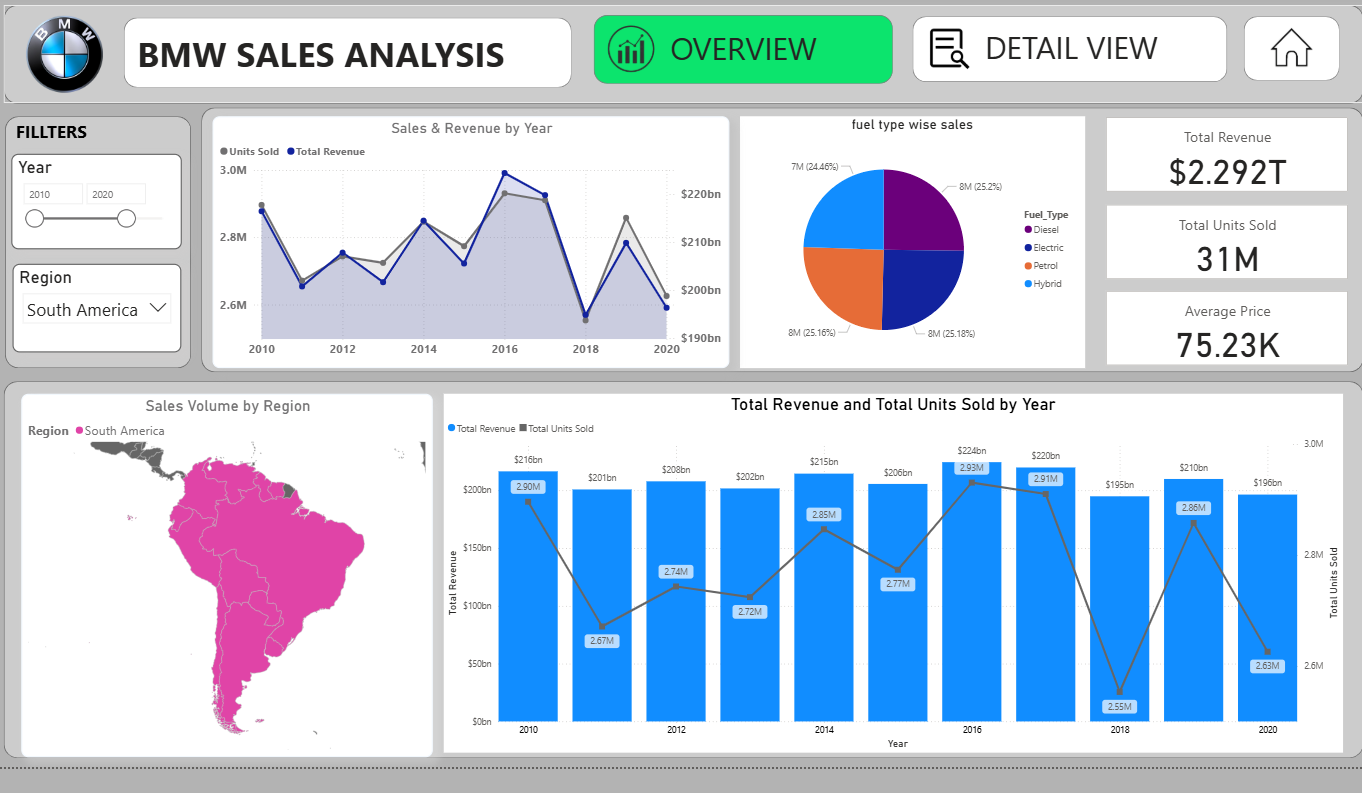

What the dashboard file says about the page in this screenshot:
{"tool":"powerbi","page":{"name":"page1","canvas":[1923,1080],"ordinal":0},"visuals":[{"type":"shape","box":[12,14,1900,138],"z":0},{"type":"image","box":[14,14,166,138],"z":1000},{"type":"shape","box":[180,32,626,98],"z":2000},{"type":"shape","box":[14,170,260,352],"z":3000},{"type":"textbox","box":[193.9,43.7,578.2,80.4],"z":4000},{"type":"shape","box":[1746,30,134,90],"z":5000},{"type":"shape","box":[836,28,418,96],"z":6000},{"type":"shape","box":[1282,30,440,92],"z":7000},{"type":"image","box":[1746,26,134,94],"z":8000},{"type":"image","box":[816,6,146,140],"z":9000},{"type":"image","box":[1254,6,154,138],"z":10000},{"type":"textbox","box":[894.4,40.6,302.6,79.5],"z":11000},{"type":"textbox","box":[1346,38,314,78],"z":12000},{"type":"textbox","box":[24,170,170,42],"z":13000},{"type":"slicer","title":"Year","fields":{"Values":["BMW_Car_Sales_Classification.Year"]},"box":[23.3,221.7,238.3,133.3],"z":14000},{"type":"shape","box":[288,158,1624,370],"z":15000},{"type":"slicer","title":"Region","fields":{"Values":["Sheet1 (2).Column1"]},"box":[24,376,236,124],"z":16000},{"type":"pieChart","title":"fuel type wise sales","fields":{"Category":["BMW_Car_Sales_Classification.Fuel_Type"],"Y":["Sum(BMW_Car_Sales_Classification.Sales_Volume)"]},"box":[1042,170,482,352],"z":17000},{"type":"shape","box":[11.7,540,1900,526.7],"z":18000},{"type":"lineChart","title":"Sales & Revenue by Year","fields":{"Y":["Sum(BMW_Car_Sales_Classification.Sales_Volume)"],"Category":["BMW_Car_Sales_Classification.Year"],"Y2":["BMW_Car_Sales_Classification.Total Revenue"]},"box":[304,170,722,352],"z":19000},{"type":"shapeMap","title":"Sales Volume by Region","fields":{"Series":["BMW_Car_Sales_Classification.Region"],"Value":["BMW_Car_Sales_Classification.Total Units Sold"],"Category":["Sheet1 (2).Column1"]},"box":[36.7,556.7,575,508.3],"z":20000},{"type":"lineStackedColumnComboChart","fields":{"Category":["BMW_Car_Sales_Classification.Year"],"Y":["BMW_Car_Sales_Classification.Total Revenue"],"Y2":["BMW_Car_Sales_Classification.Total Units Sold"]},"box":[626.7,556.7,1256.7,501.7],"z":21000},{"type":"cardVisual","fields":{"Data":["BMW_Car_Sales_Classification.Total Revenue"]},"box":[1548,166,348,114],"z":22000},{"type":"cardVisual","fields":{"Data":["BMW_Car_Sales_Classification.Total Units Sold"]},"box":[1548,288,348,114],"z":23000},{"type":"cardVisual","fields":{"Data":["BMW_Car_Sales_Classification.Average Price"]},"box":[1548,408,348,114],"z":24000}]}

Visuals, with their boxes on the page's 1923x1080 design canvas (x1, y1, x2, y2). These are canvas units, not pixel positions in the 1362x793 screenshot, which may show the page scaled, cropped or inside an application window:
shape: box(12, 14, 1912, 152)
image: box(14, 14, 180, 152)
shape: box(180, 32, 806, 130)
shape: box(14, 170, 274, 522)
textbox: box(194, 44, 772, 124)
shape: box(1746, 30, 1880, 120)
shape: box(836, 28, 1254, 124)
shape: box(1282, 30, 1722, 122)
image: box(1746, 26, 1880, 120)
image: box(816, 6, 962, 146)
image: box(1254, 6, 1408, 144)
textbox: box(894, 41, 1197, 120)
textbox: box(1346, 38, 1660, 116)
textbox: box(24, 170, 194, 212)
"Year" slicer: box(23, 222, 262, 355)
shape: box(288, 158, 1912, 528)
"Region" slicer: box(24, 376, 260, 500)
"fuel type wise sales" pieChart: box(1042, 170, 1524, 522)
shape: box(12, 540, 1912, 1067)
"Sales & Revenue by Year" lineChart: box(304, 170, 1026, 522)
"Sales Volume by Region" shapeMap: box(37, 557, 612, 1065)
lineStackedColumnComboChart - BMW_Car_Sales_Classification.Year x BMW_Car_Sales_Classification.Total Revenue: box(627, 557, 1883, 1058)
cardVisual - BMW_Car_Sales_Classification.Total Revenue: box(1548, 166, 1896, 280)
cardVisual - BMW_Car_Sales_Classification.Total Units Sold: box(1548, 288, 1896, 402)
cardVisual - BMW_Car_Sales_Classification.Average Price: box(1548, 408, 1896, 522)
